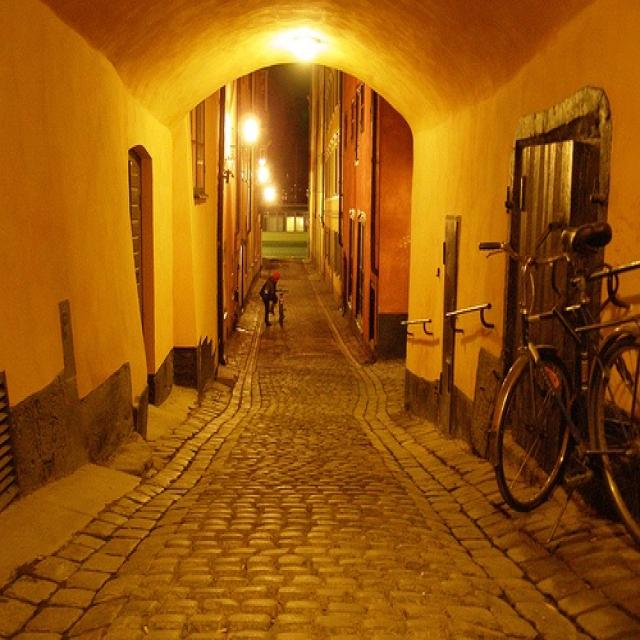bicycle: (475, 218, 639, 550)
